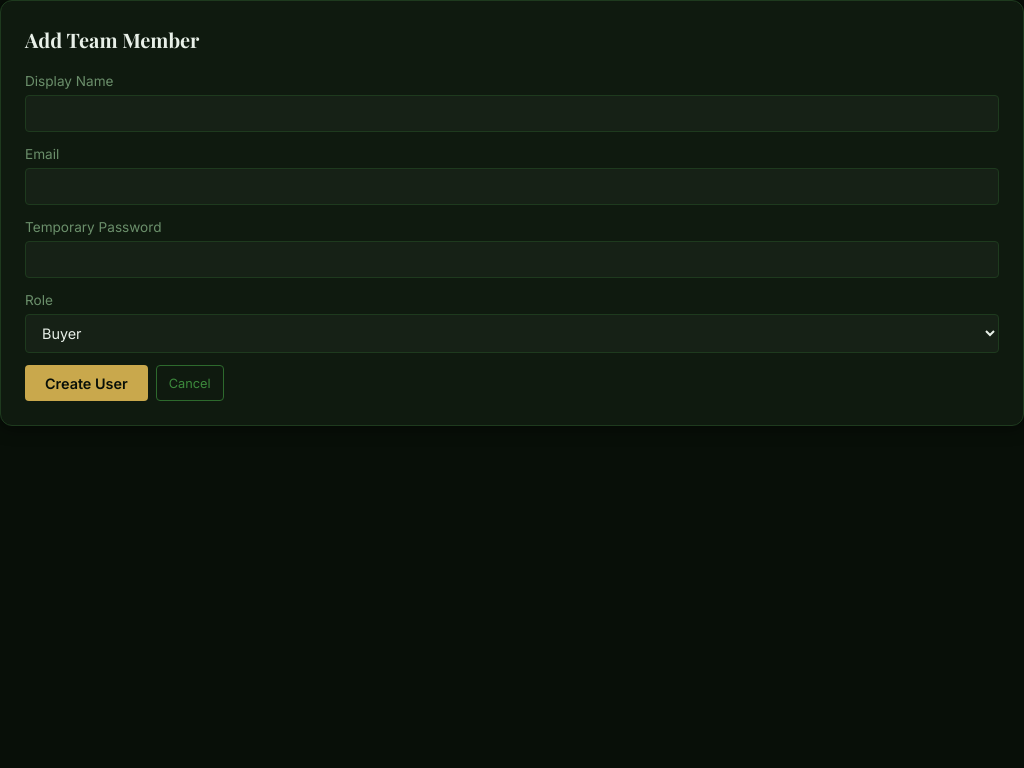
it: CreateUserForm › shows success toast after creating a user
Step 1. Type "New User" into the field labelled "Display Name" → [512, 114], box [25, 95, 999, 132]
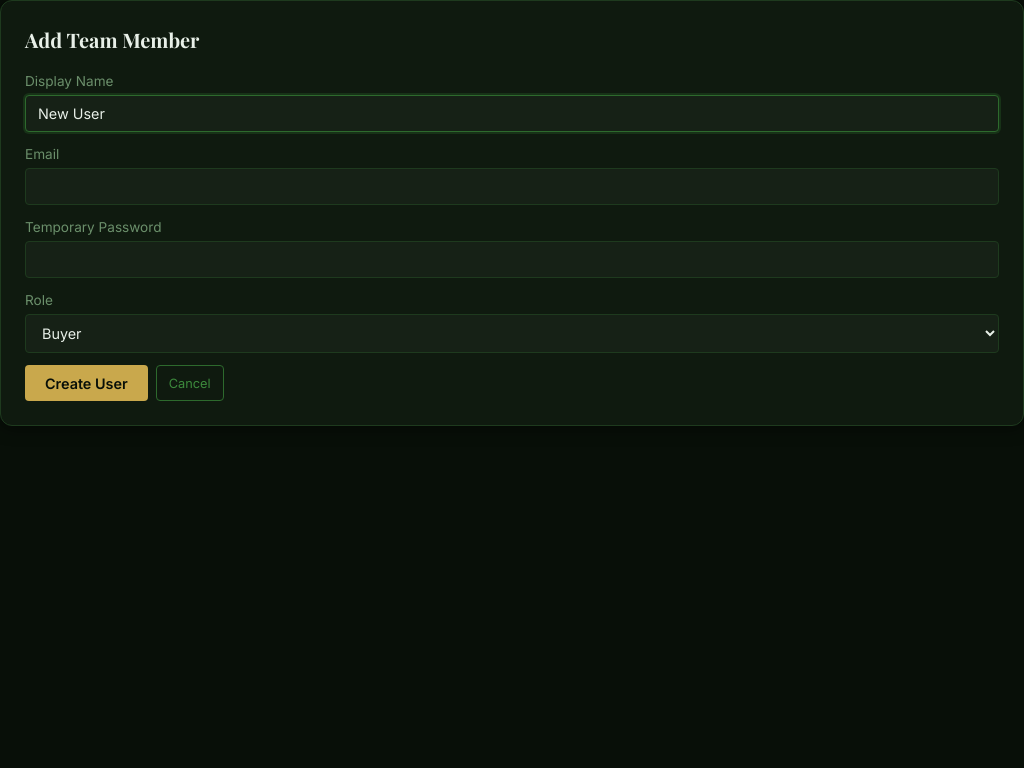
Step 2. Type "new@test.com" into the field labelled "Email" → [512, 187], box [25, 168, 999, 205]
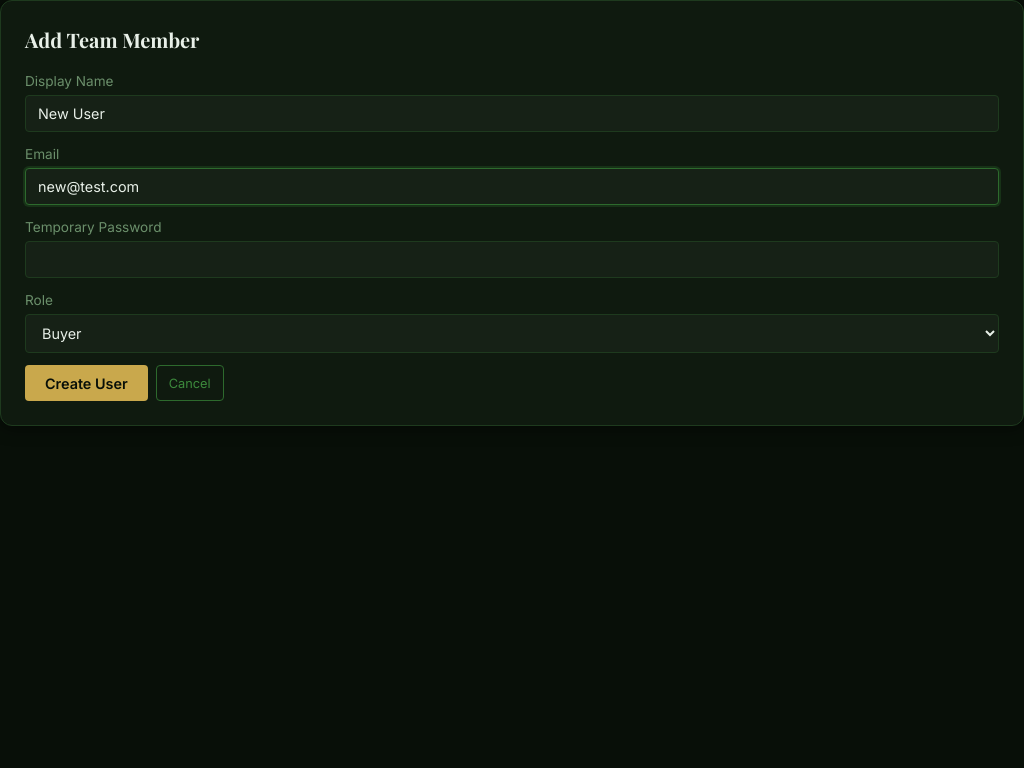
Step 3. Type "password123" into the password field labelled "Temporary Password" → [512, 260], box [25, 241, 999, 278]
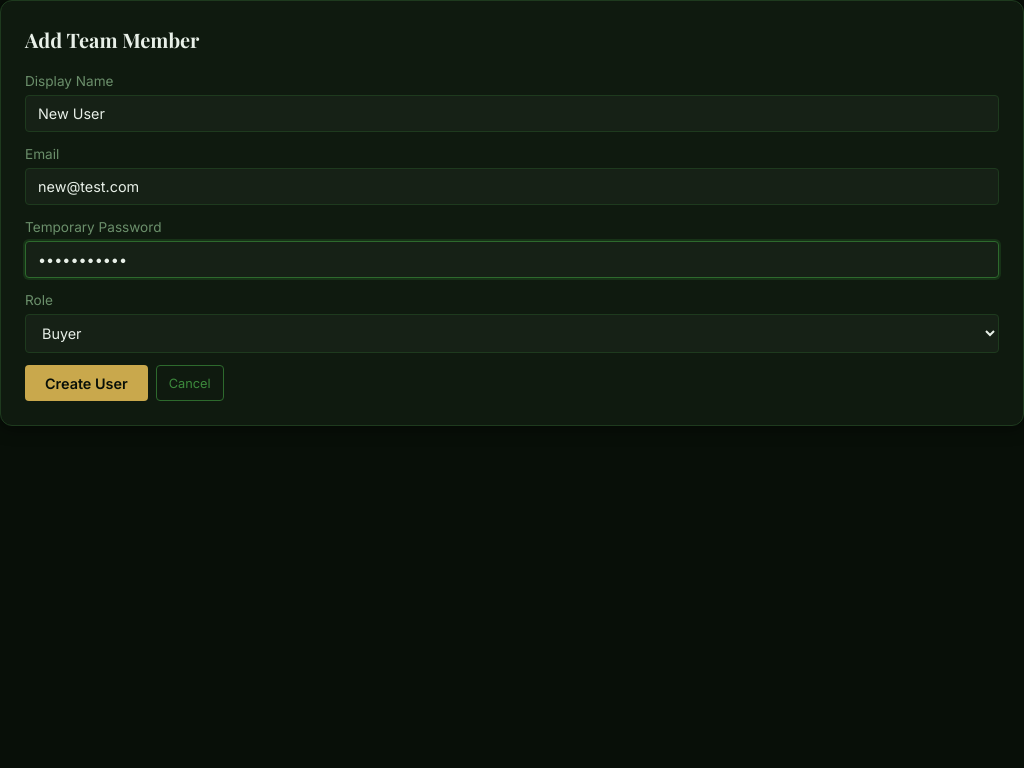
Step 4. Click the button "Create User" → [86, 383], box [25, 365, 148, 401]
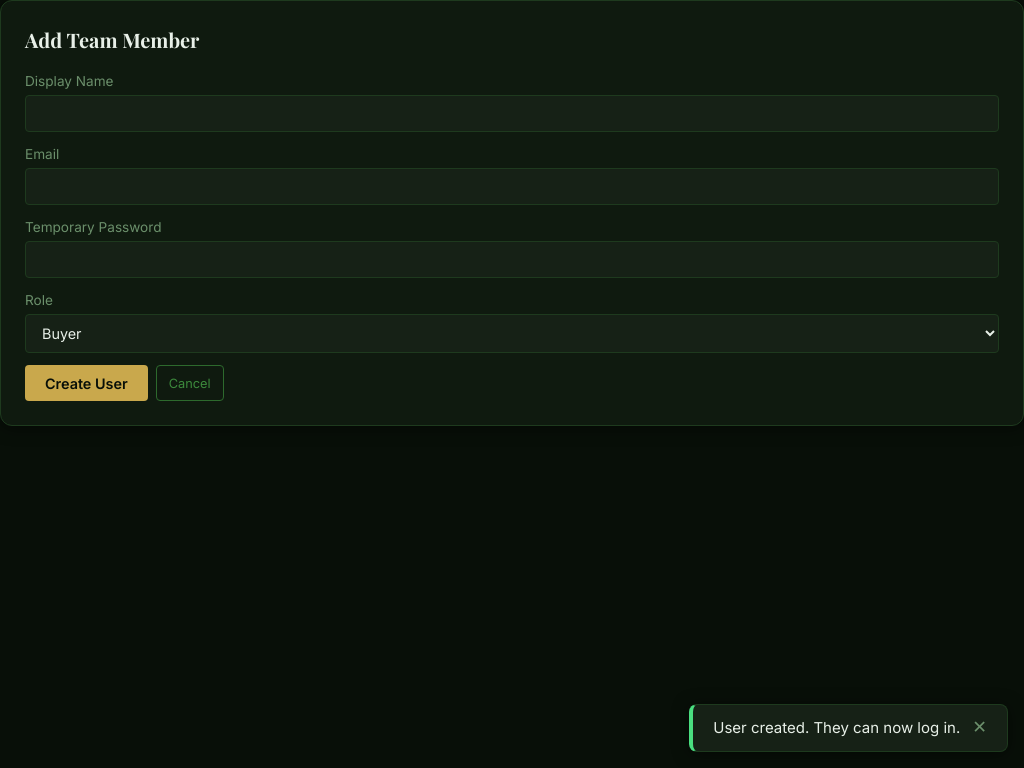
expect the text "User created. They can now log in." is shown: met, box [713, 716, 960, 739]
